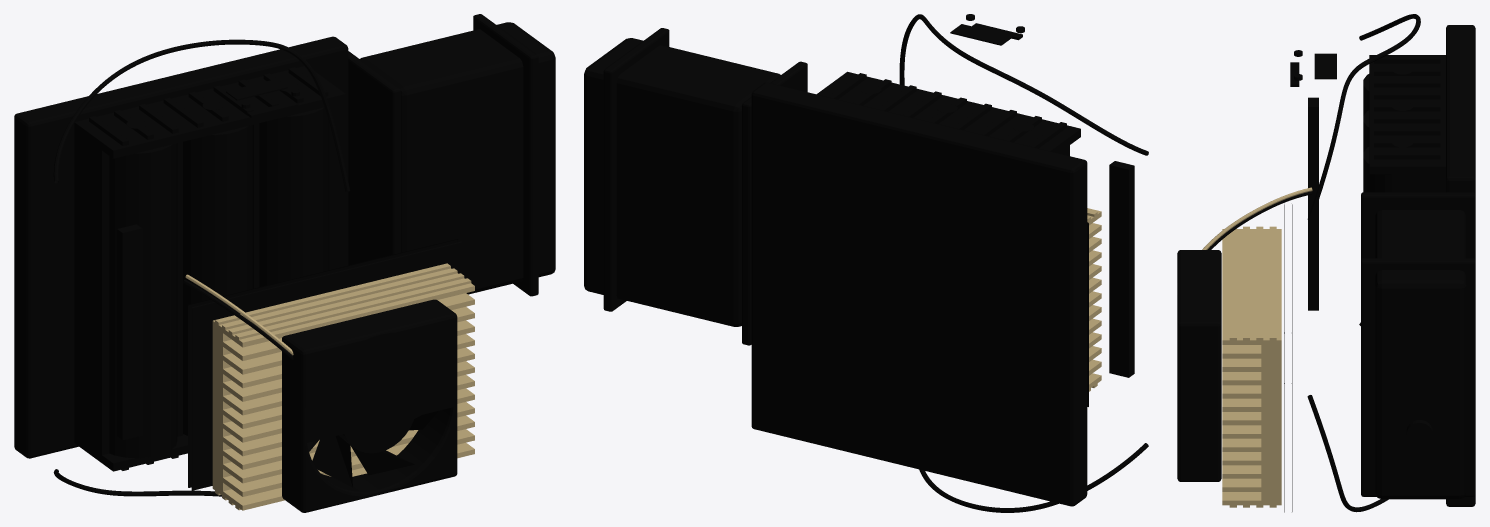
Rendered from chassis_black_vis.obj.
3 renders of one model, left to right at view 1: azimuth 30°, elevation 25°; view 2: azimuth 150°, elevation 25°; view 3: azimuth 270°, elevation 25°, orthographic. The views are drawn at different scales.
Bounding box in the file's own units: 0.1328 × 0.1124 × 0.0674.
Materials: 1 (1 with a texture image).
